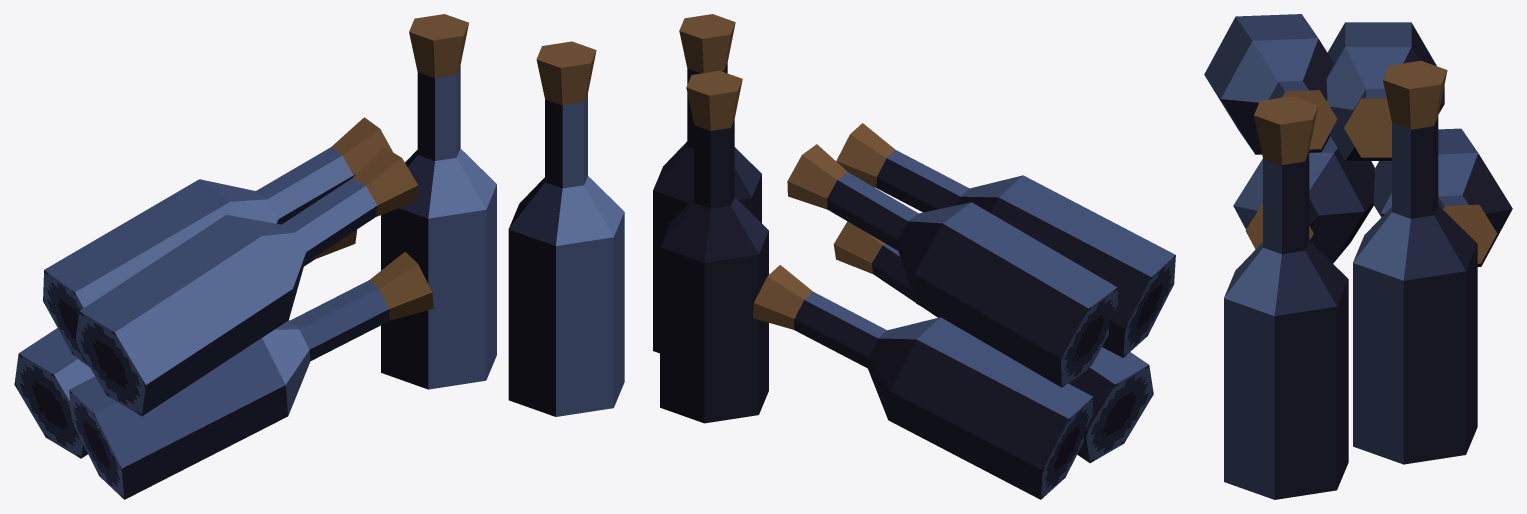
File: fuellung_flaschen_b_blau.glb
3 renders of one model, left to right at view 1: azimuth 30°, elevation 25°; view 2: azimuth 150°, elevation 25°; view 3: azimuth 270°, elevation 25°, orthographic. The views are drawn at different scales.
Parts seen in each view (by area): view 1: flaschen_b_blau; view 2: flaschen_b_blau; view 3: flaschen_b_blau.
Boxes of the visible parts, bbox=[...] form: flaschen_b_blau: bbox=[14, 14, 624, 499]; flaschen_b_blau: bbox=[653, 14, 1175, 499]; flaschen_b_blau: bbox=[1204, 14, 1512, 499].
Bounding box in the file's own units: 0.5919 × 0.3575 × 0.2764.
Materials: 1 (1 with a texture image).
